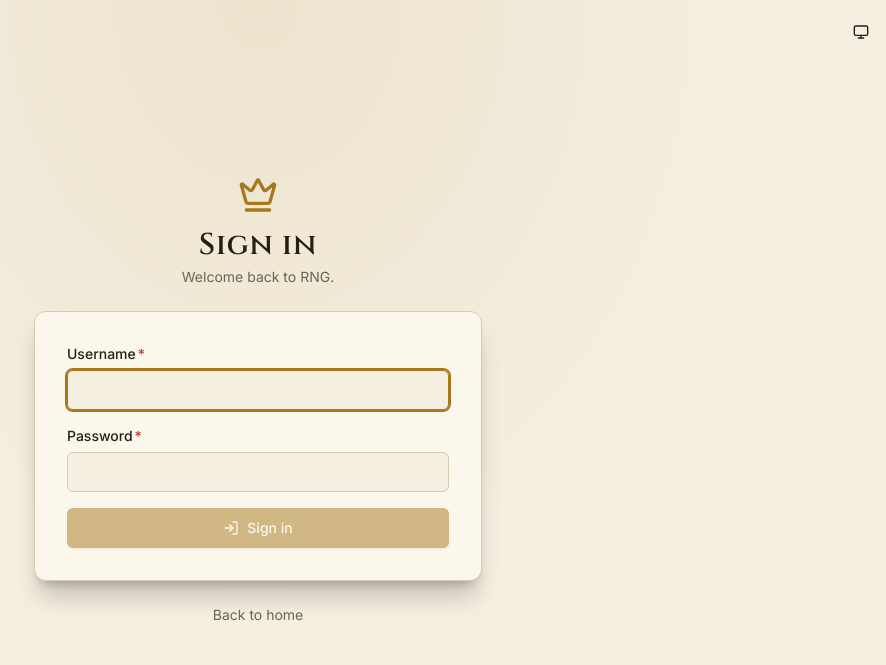
Test: LoginPage › shows a bad-credentials error
Type "admin" into the field labelled "Username*" at (258, 390), box [67,370,449,410]
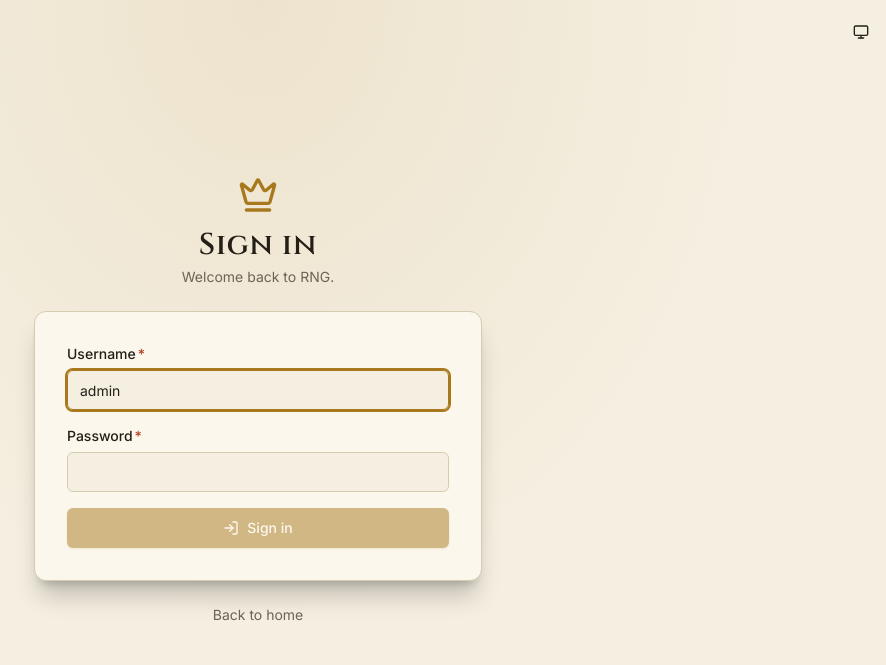
Type "password" into the password field labelled "Password*" at (258, 472), box [67,452,449,492]
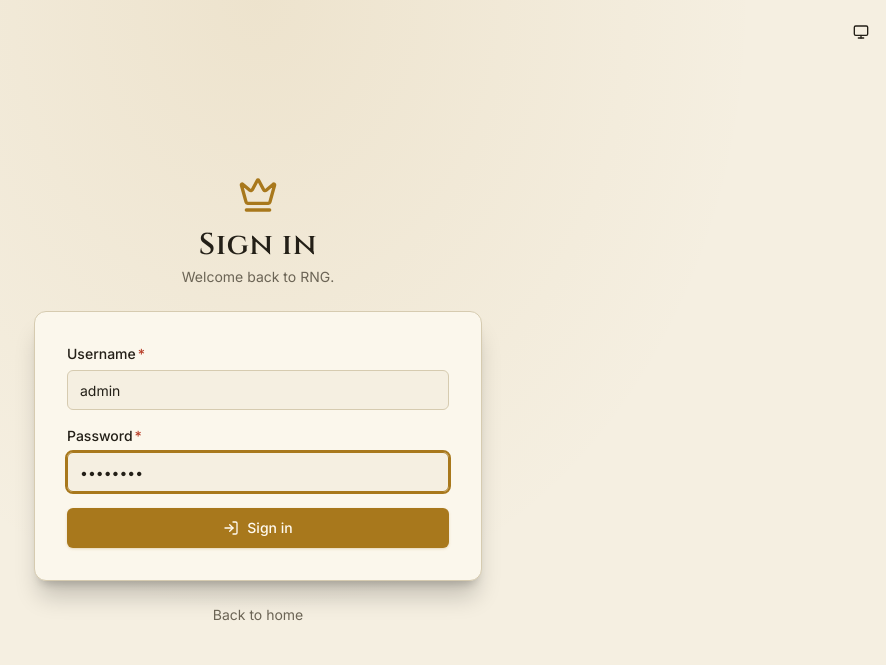
Click the button "Sign in" at (258, 528), box [67,508,449,548]
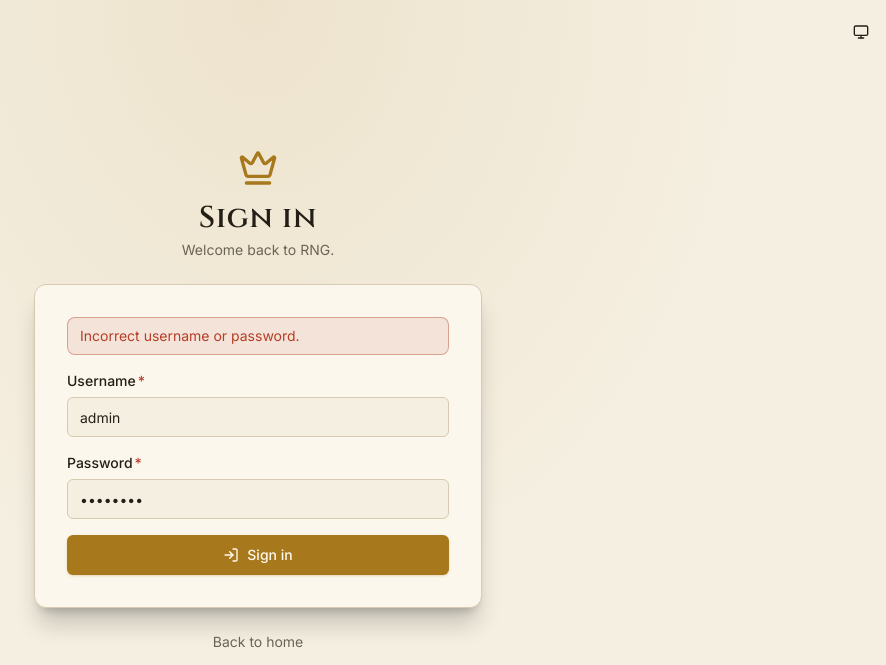
Check: the message reads "Incorrect username or password.", box [80,327,300,344]
